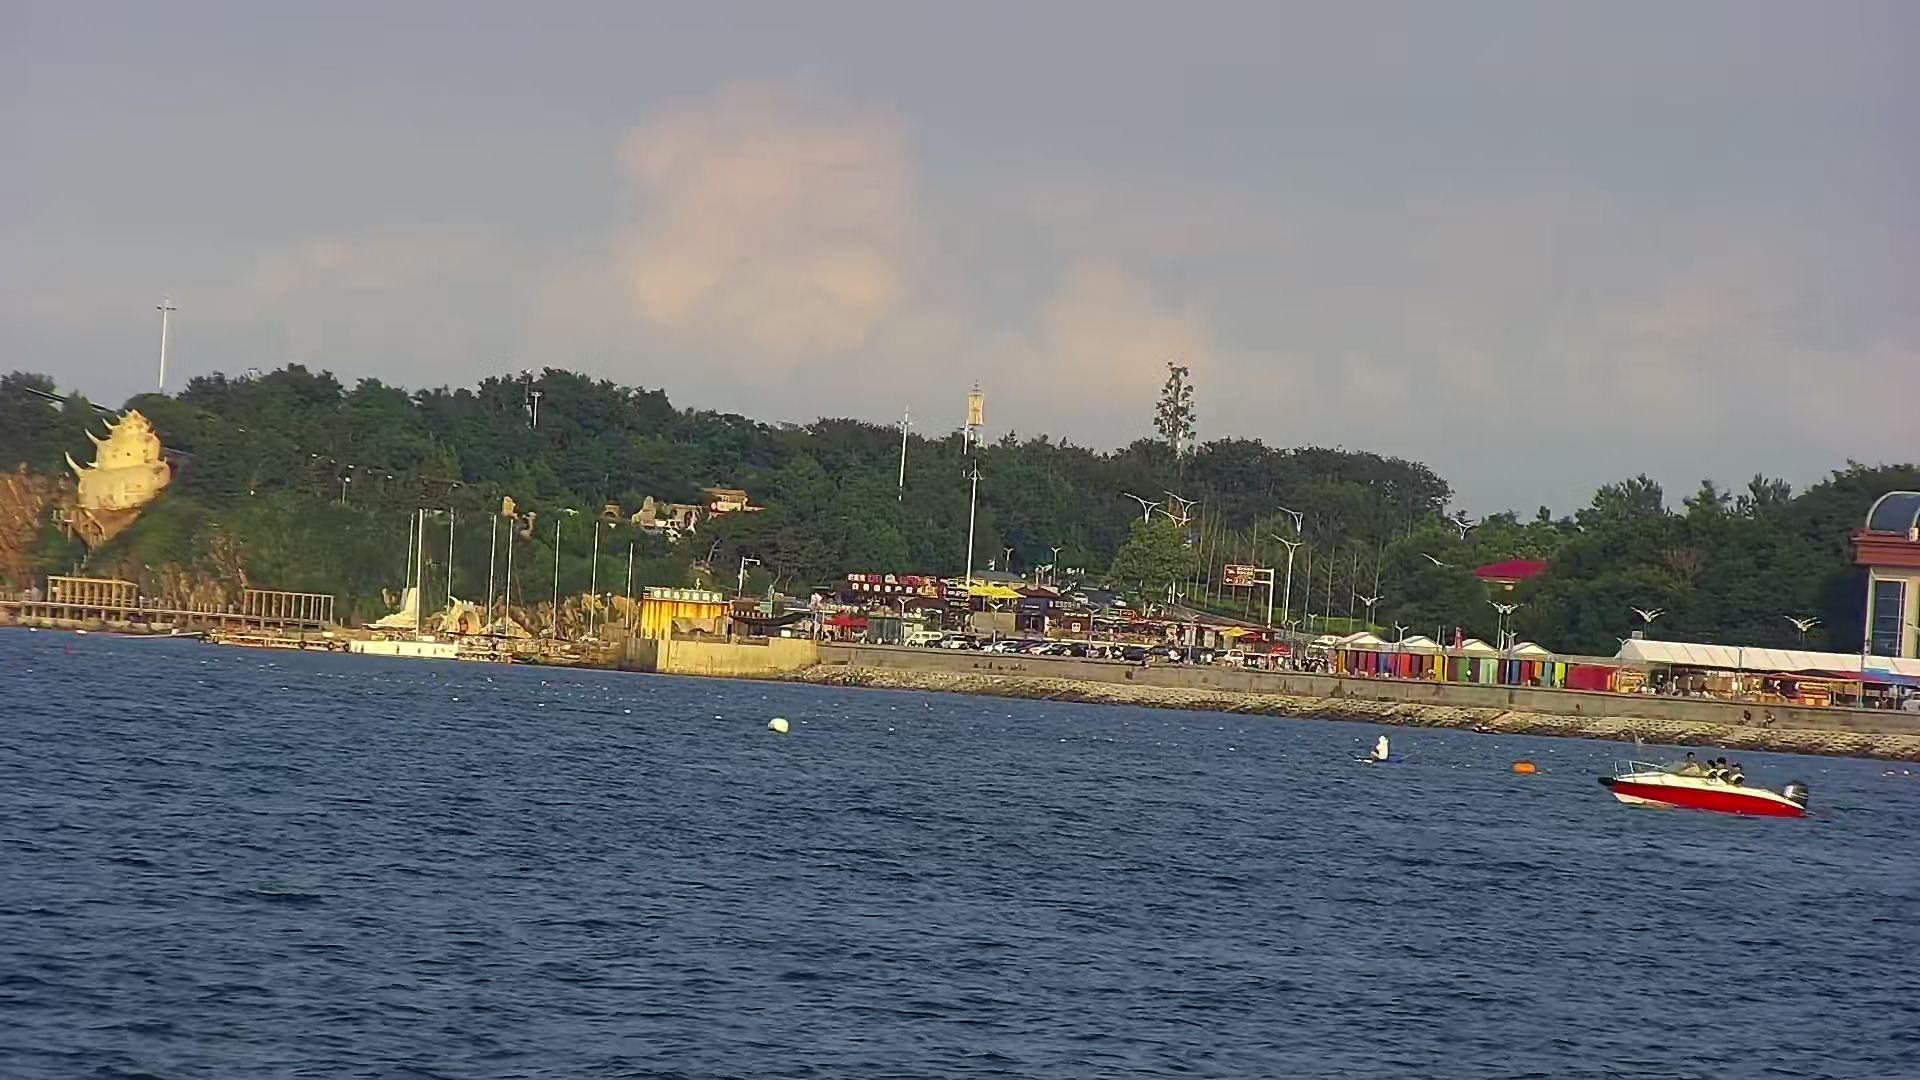ball: (1506, 752, 1542, 787), (766, 712, 798, 735)
boat: (1600, 735, 1813, 822)
